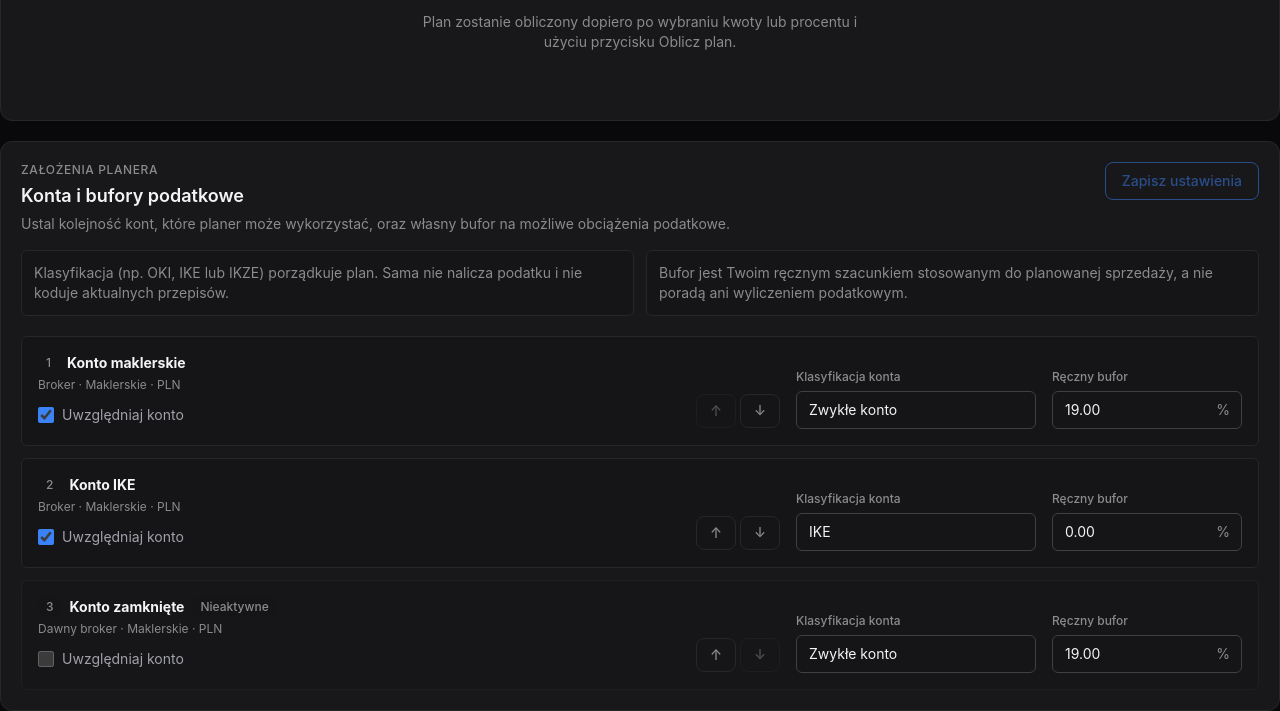
PortfolioWithdrawalPlannerSection › reorders accounts and saves explicit classifications and manual buffers
The image size is (1280, 711).
(page scrolled)
Expected: the heading "Konta i bufory podatkowe" is shown, [21,184,244,206]
Click the button named "Przenieś Konto maklerskie niżej".
click(760, 410)  # box [740,394,780,428]
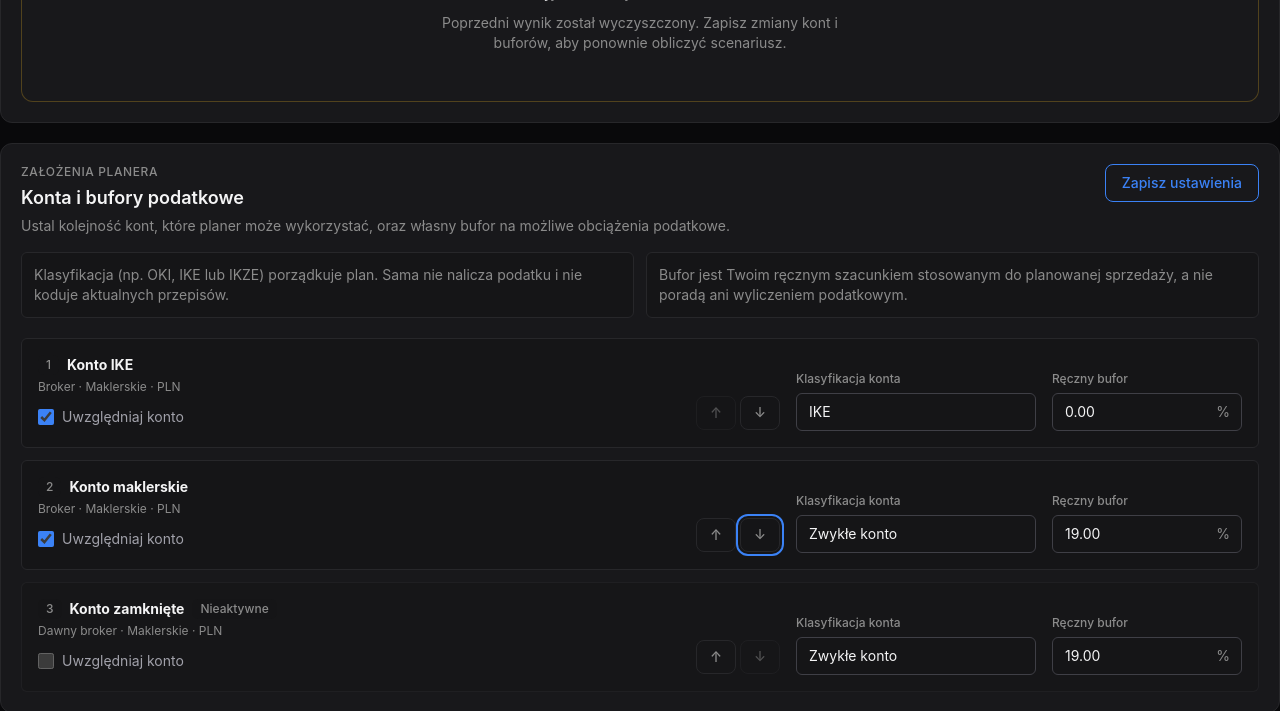
Select "OKI" in the 1st dropdown labelled "Klasyfikacja konta" at (916, 412), box [796,392,1036,430]
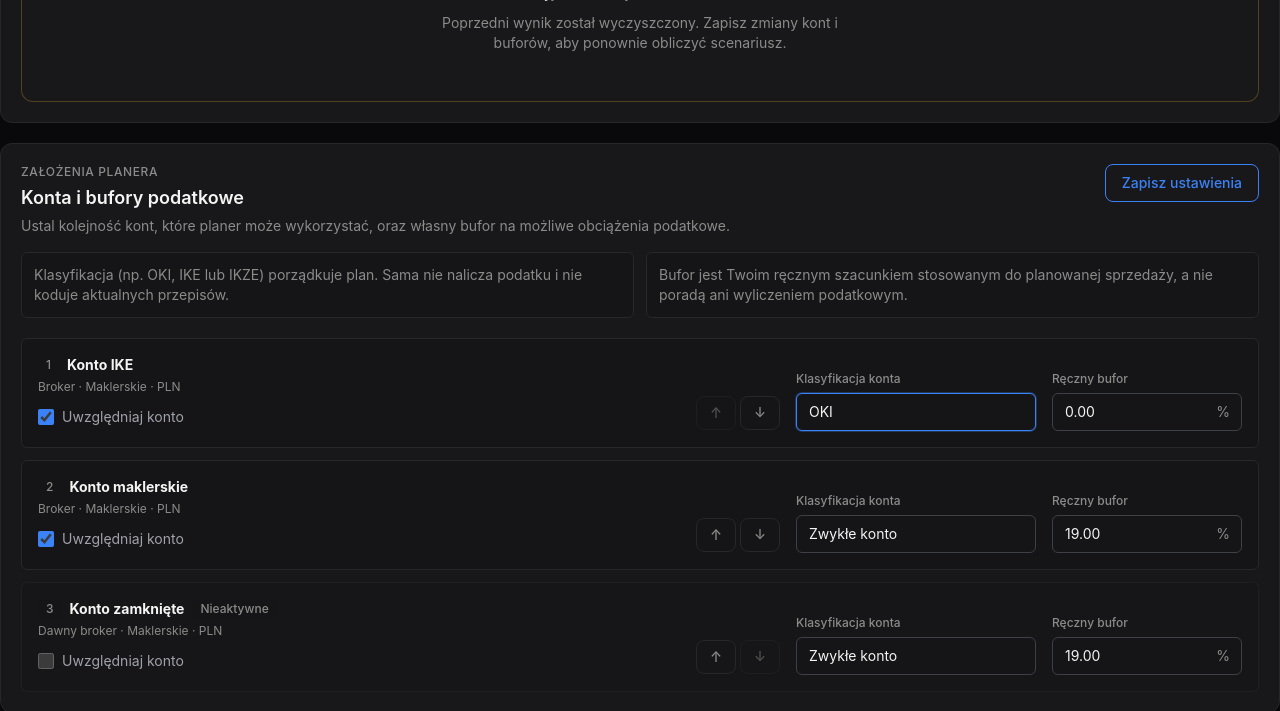
Replace the text in the 1st field labelled "Ręczny bufor" with "3,5" at (1147, 412), box [1052,392,1242,430]
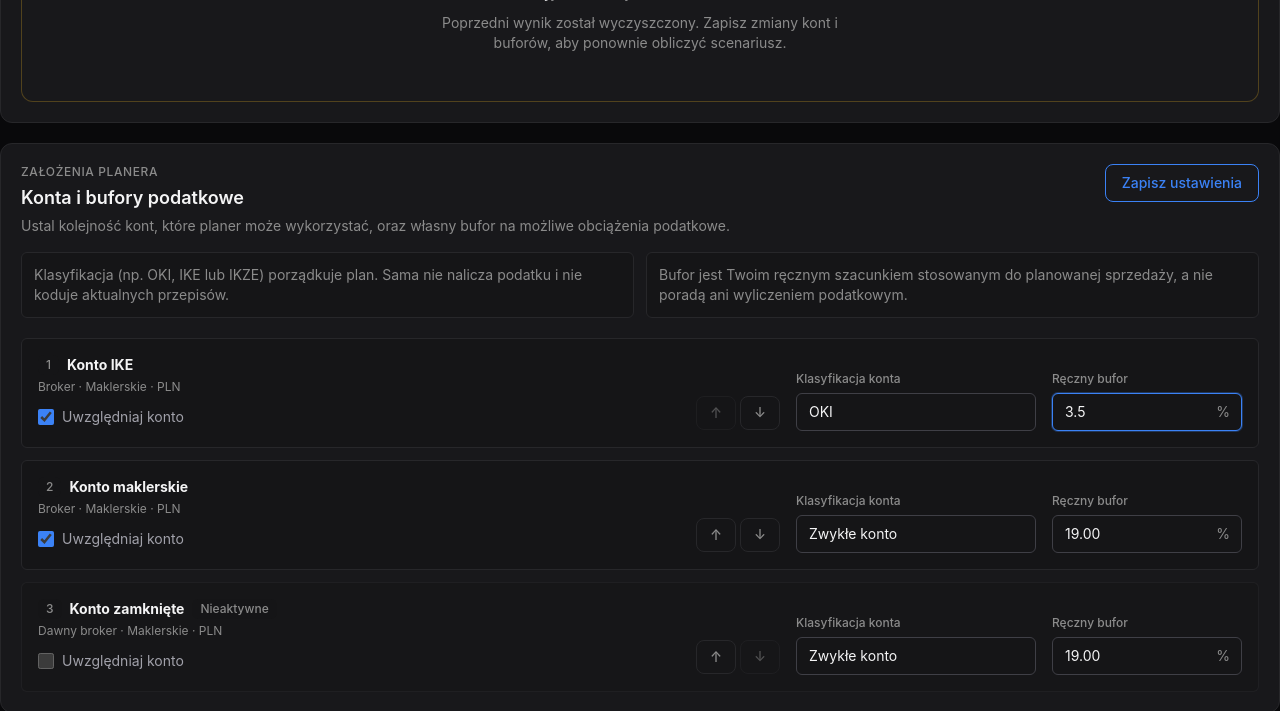
Click the checkbox labelled "Uwzględniaj konto" below "Konto IKE".
click(46, 416)  # box [38,408,54,424]
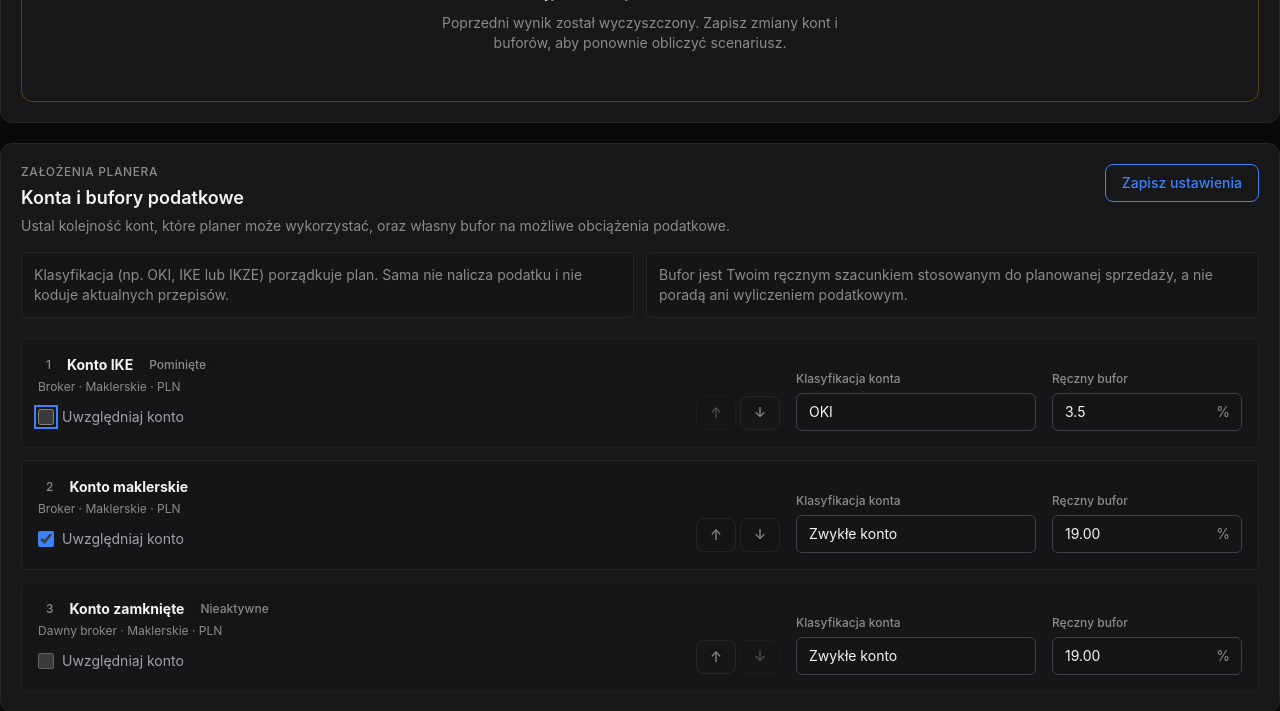
Click the button "Zapisz ustawienia".
click(1182, 182)  # box [1105,164,1259,202]
(page scrolled)
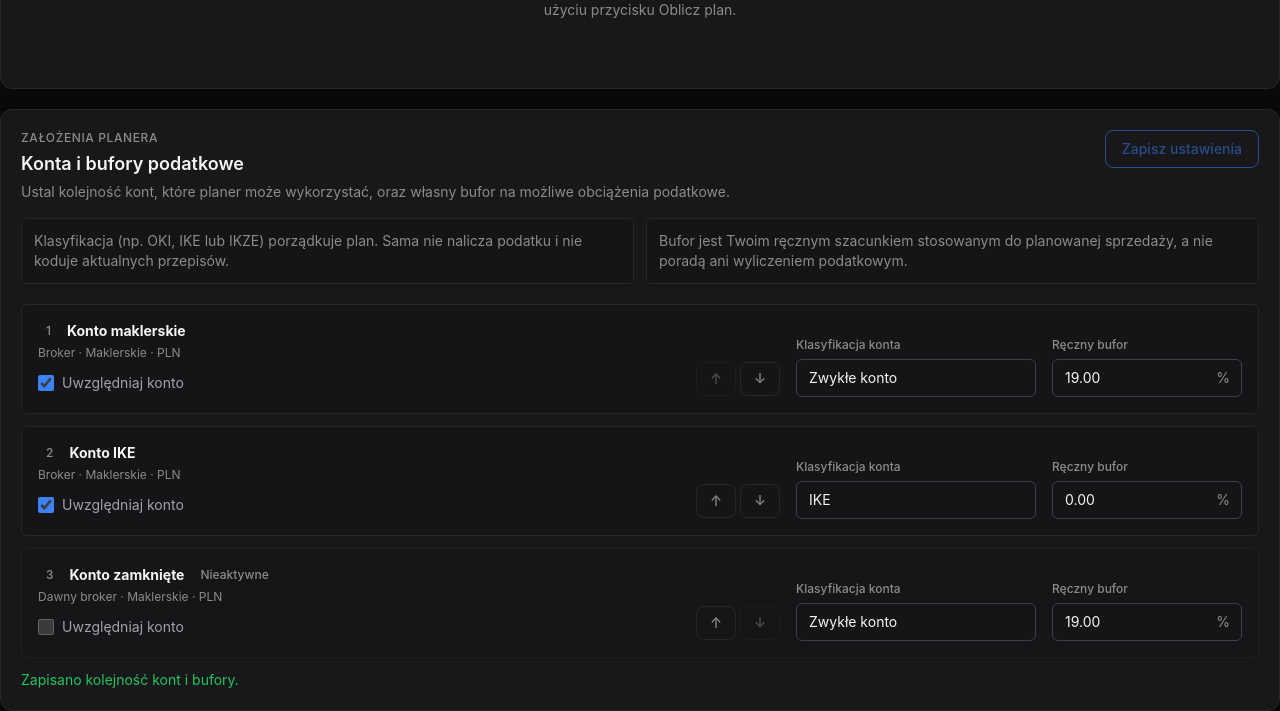
Result: the text "Zapisano kolejność kont i bufory." is shown at [21,670,239,688]
